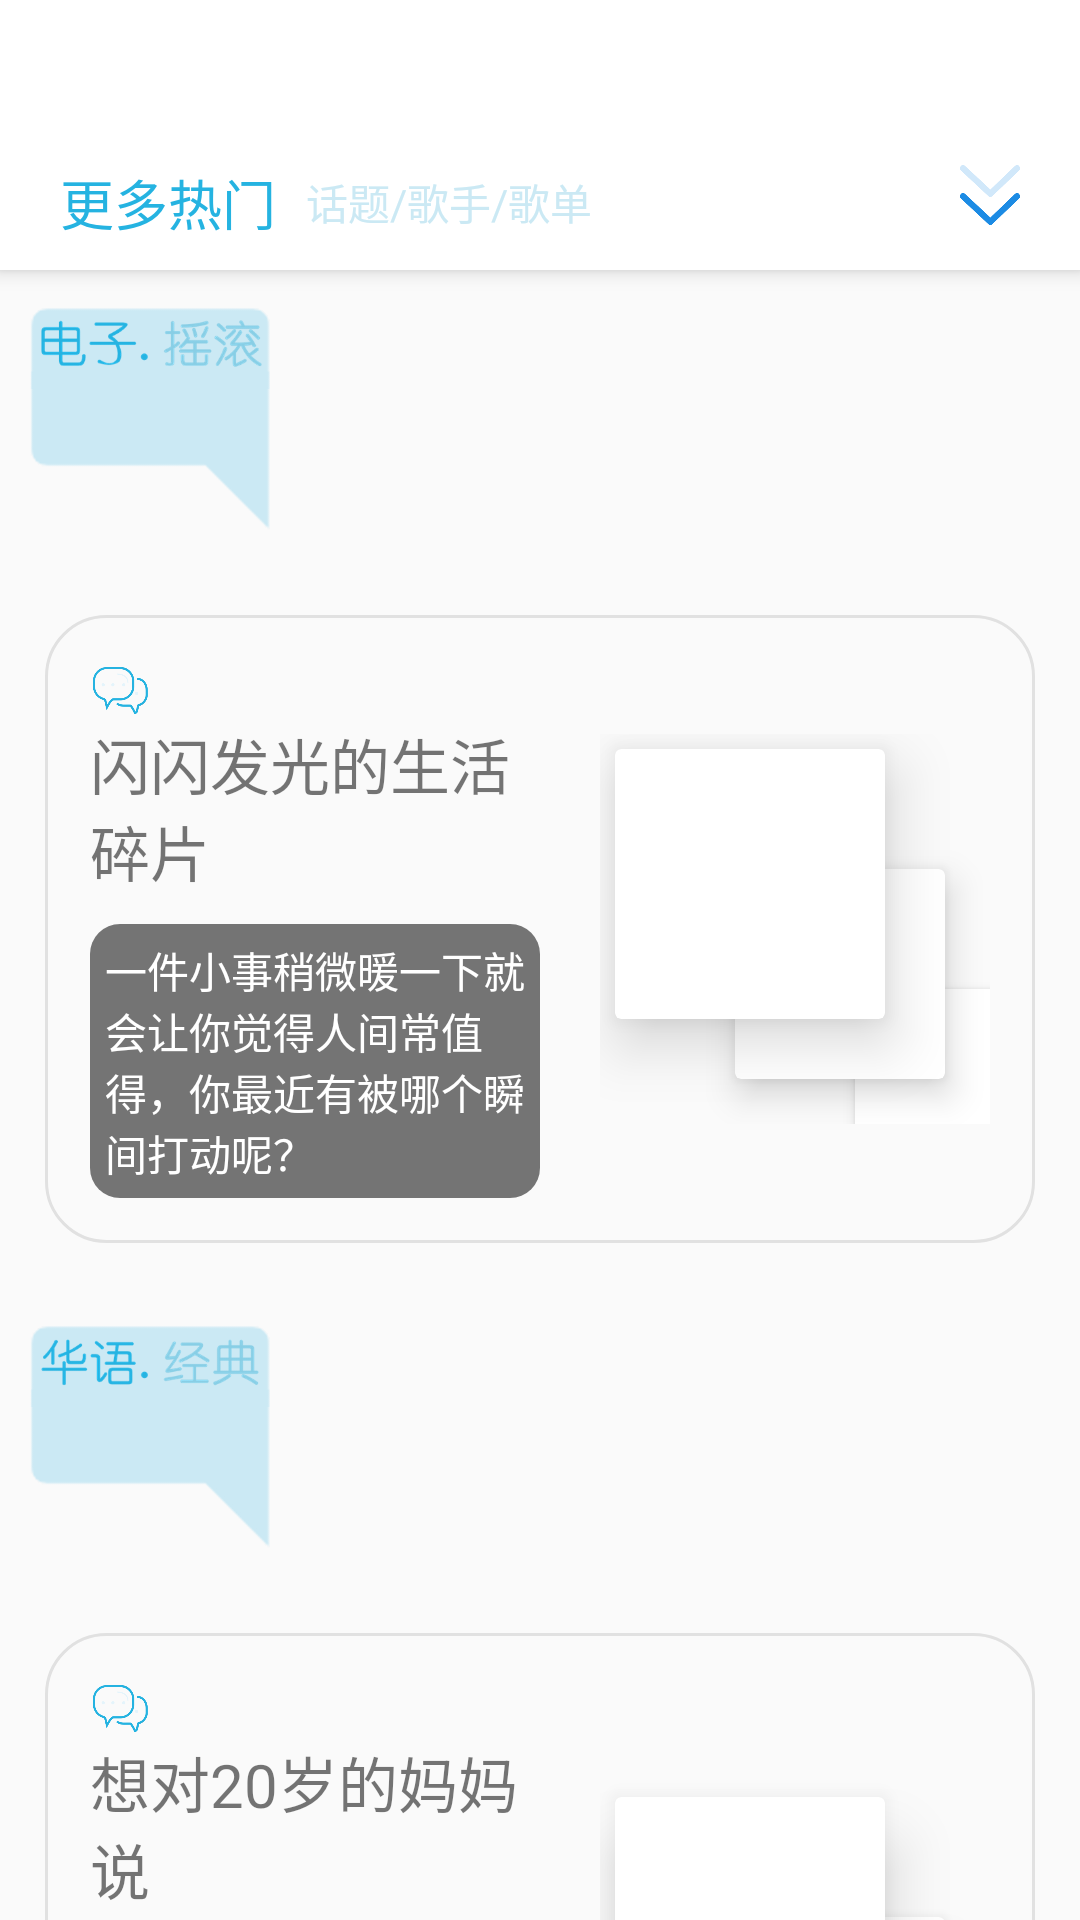

Named icons in this screenshot (1080w x 1920h) and their centers, (x,y):
topic: (120,690), (120,1708)
